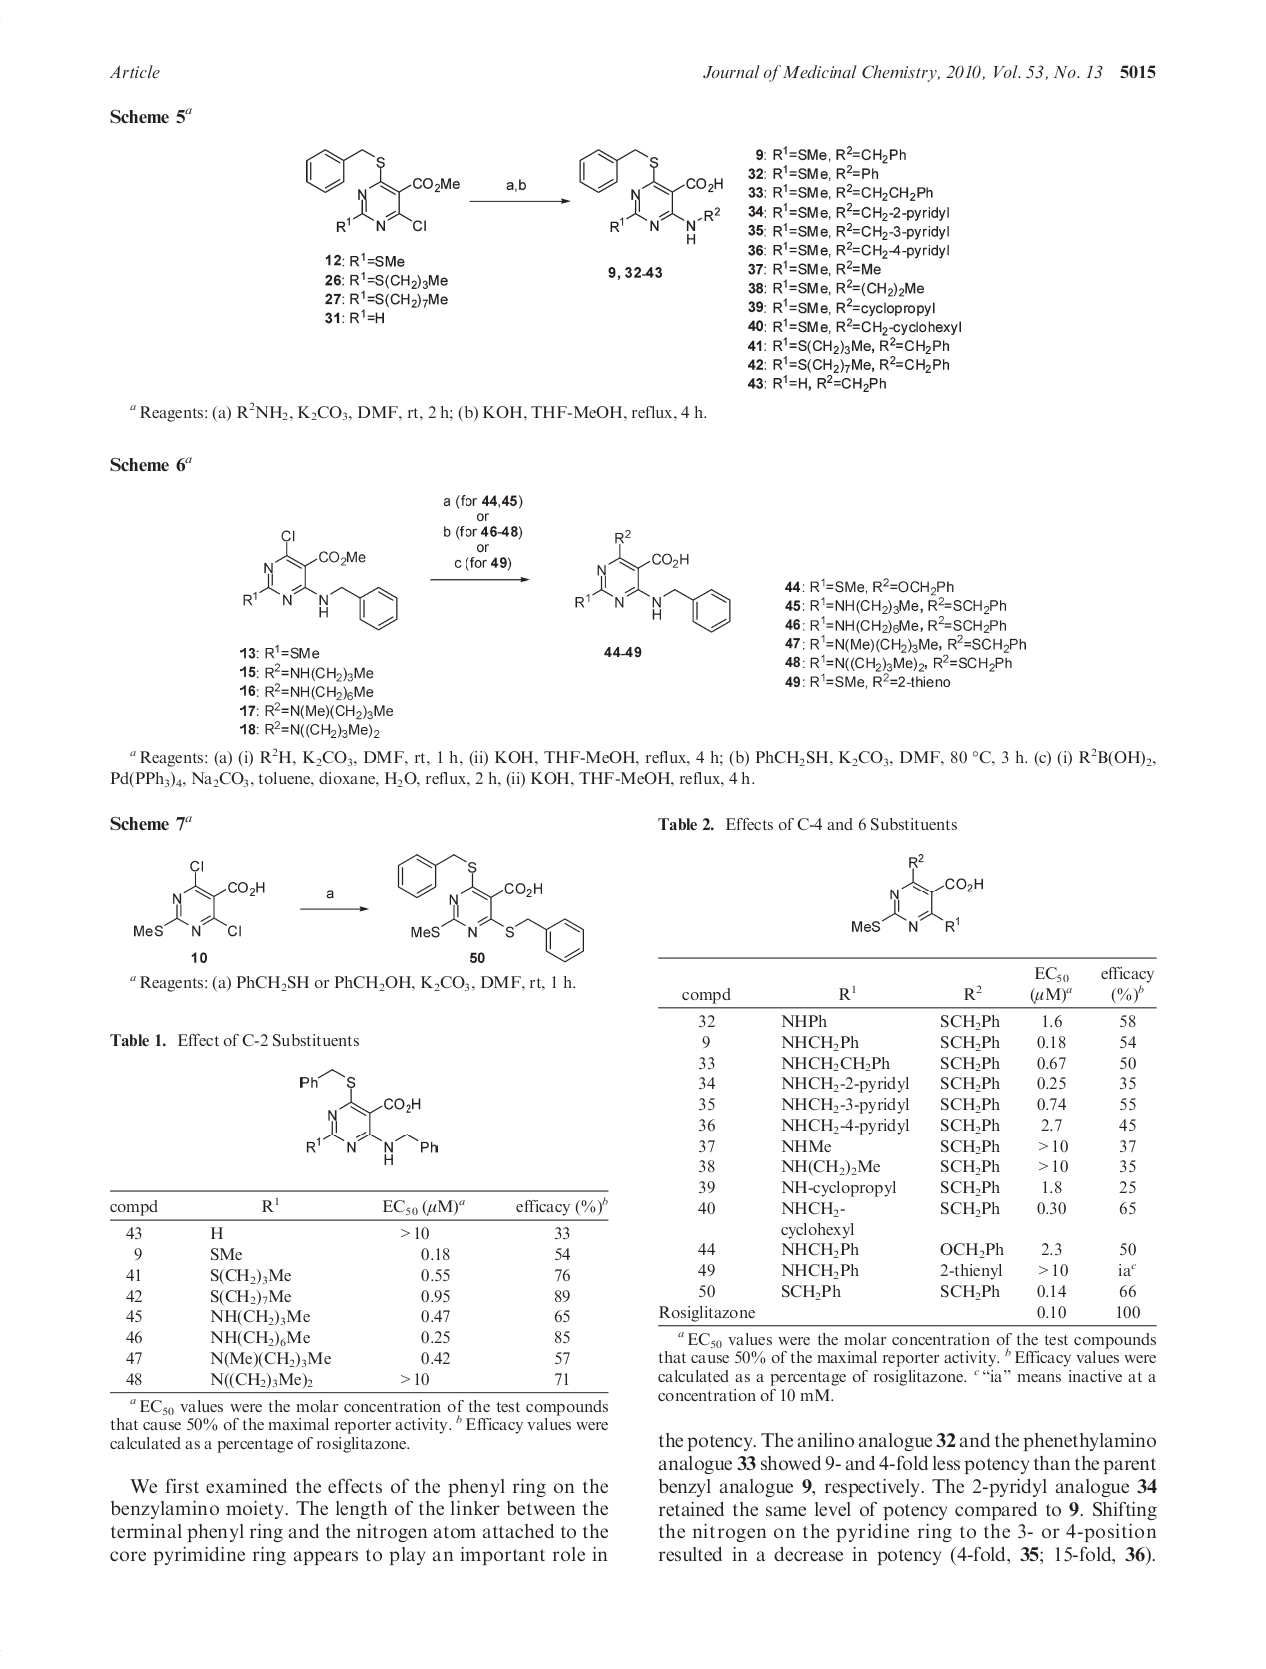exist_molecular: (394, 852, 586, 964), (572, 528, 733, 633), (238, 528, 400, 630), (299, 1064, 442, 1169), (577, 148, 726, 247), (303, 148, 461, 234), (850, 851, 985, 936), (132, 858, 269, 942)
